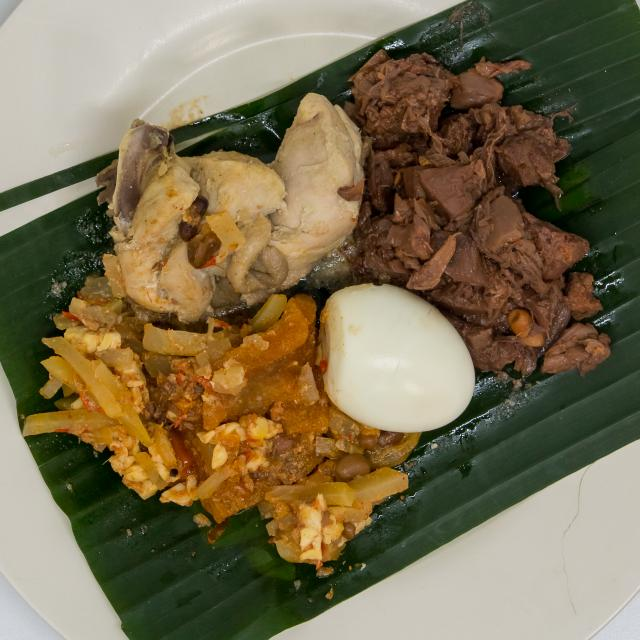Gudeg-Jogja: (17, 21, 624, 583)
